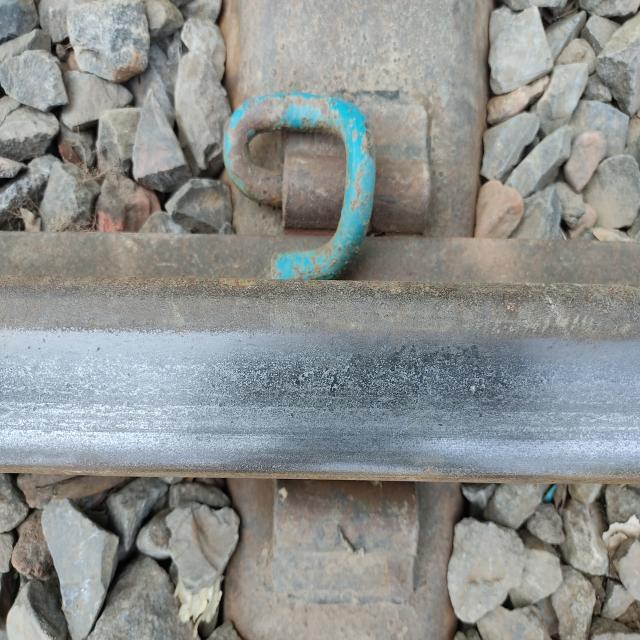defective: (204, 284, 453, 622)
